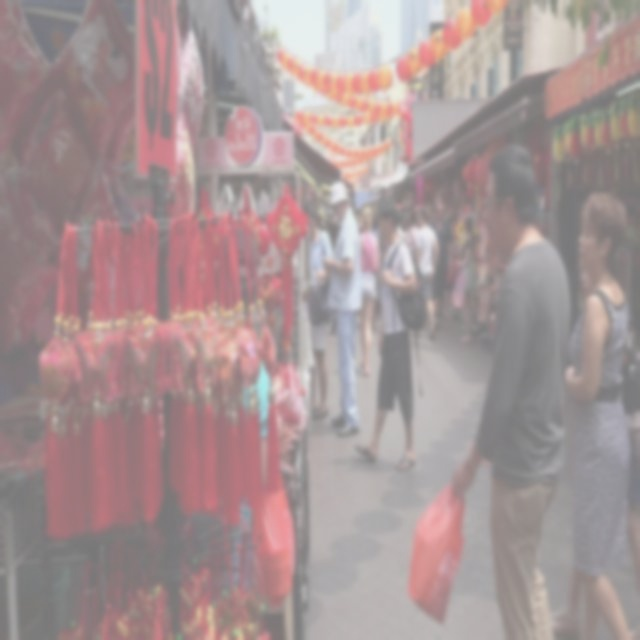pessoa: (450, 142, 571, 638), (565, 192, 632, 639), (544, 257, 596, 639), (352, 195, 416, 474), (320, 178, 363, 438), (301, 200, 334, 420), (358, 205, 380, 380), (428, 198, 455, 329), (414, 206, 439, 342), (454, 214, 478, 344), (371, 210, 384, 324), (442, 205, 454, 315), (402, 208, 420, 264), (316, 210, 342, 233), (392, 208, 410, 238), (426, 202, 436, 226), (376, 282, 382, 322), (354, 209, 364, 232), (410, 202, 425, 210)
